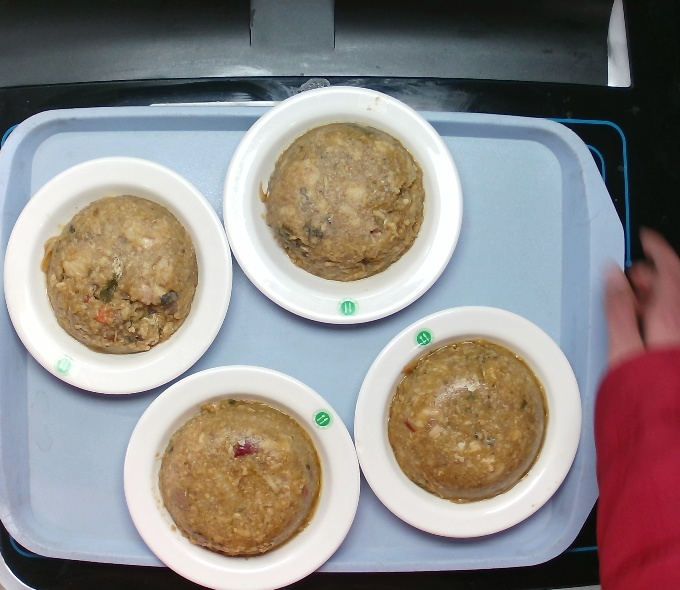wcq-YuDong: (147, 392, 334, 570), (375, 336, 557, 504), (254, 114, 431, 286), (42, 193, 197, 353)
